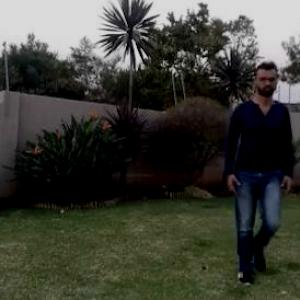follow: (230, 76, 285, 266)
